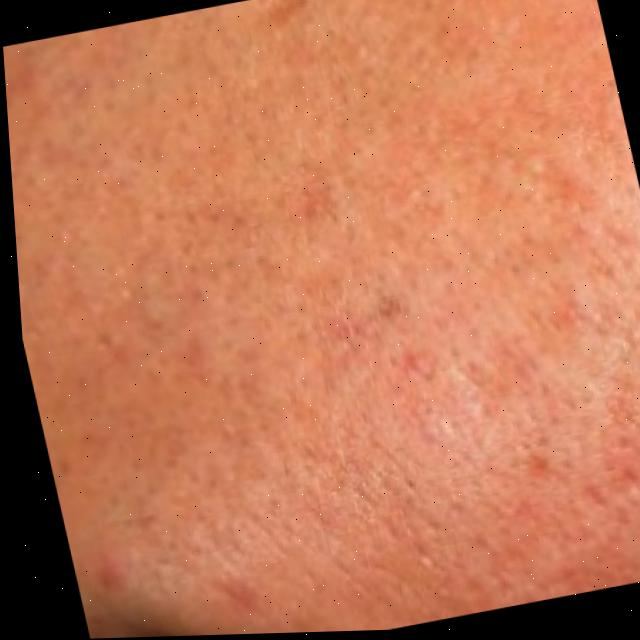Acne: (58, 51, 640, 638)
